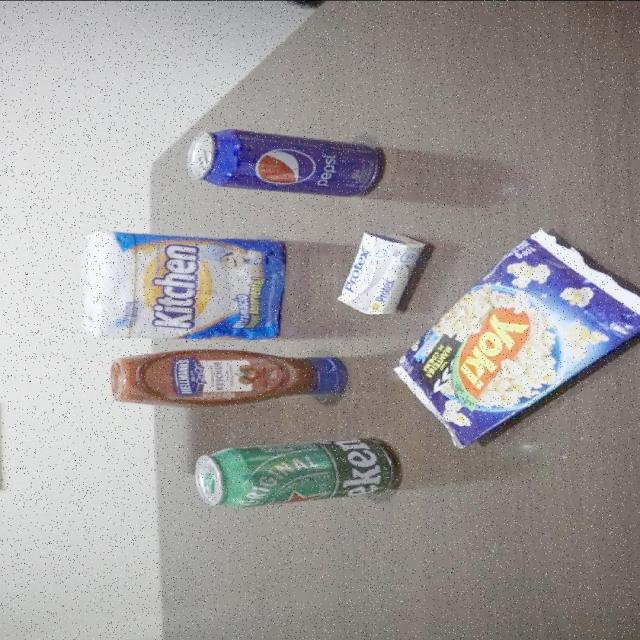BeerCan: (192, 434, 402, 510)
Ketchup: (107, 347, 348, 410)
Napkin: (76, 227, 282, 342)
Popcorn: (391, 227, 640, 451)
Soap: (336, 232, 429, 319)
SodaCan: (185, 125, 384, 203)
